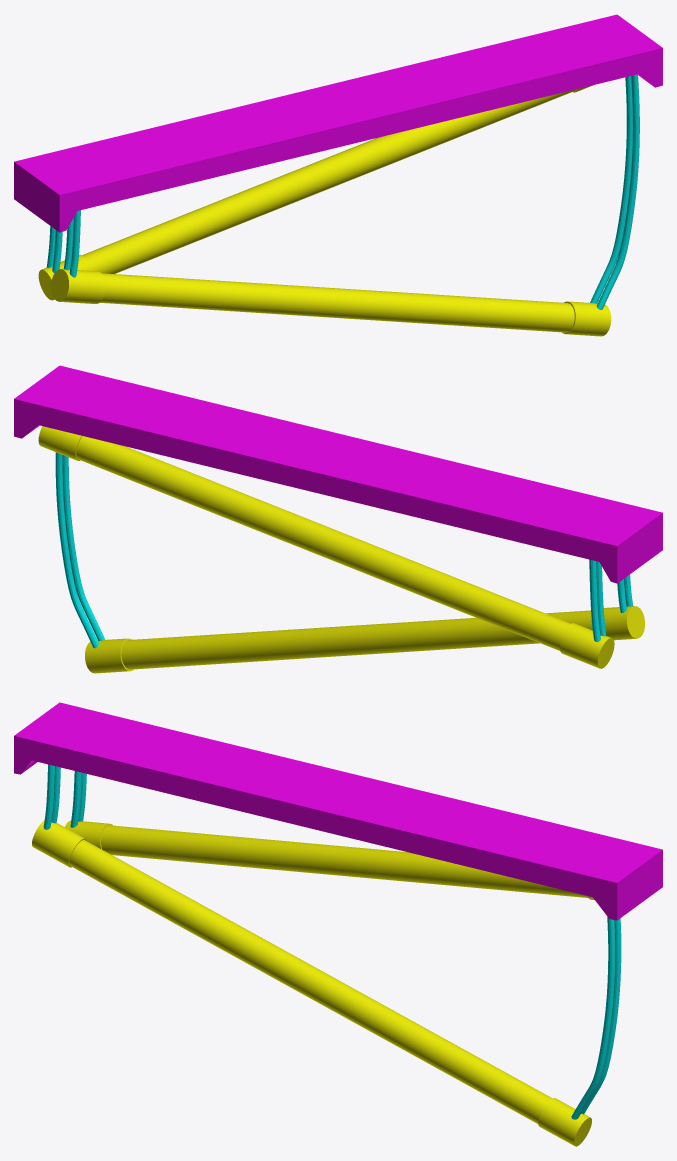
File: LampadaV3.fbx
3 views of the same model, one above another, from view 1: azimuth 30°, elevation 25°; view 2: azimuth 150°, elevation 25°; view 3: azimuth 330°, elevation 25° (orthographic).
Visible parts, largest first — view 1: curve3; view 2: curve3; view 3: curve3.
Boxes of the visible parts, box(x1,y1,x2,y2) form: curve3: box(14, 14, 662, 336); curve3: box(14, 365, 662, 673); curve3: box(14, 702, 662, 1146).
Size of the model in its own units: 9.86 by 4.44 by 1.29.
